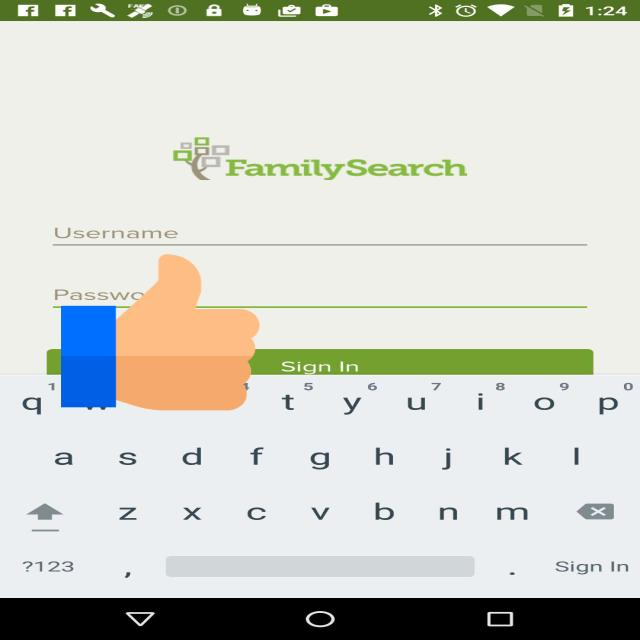privacy zuckering: (61, 250, 260, 414)
